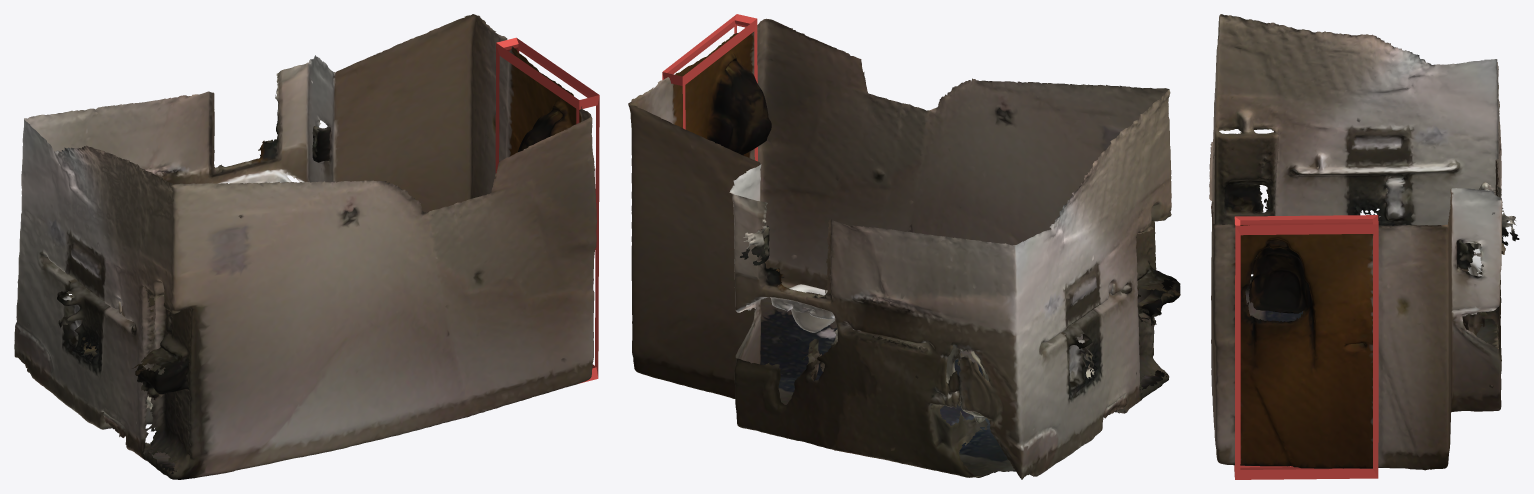
The model's file is reasoning3.glb.
3 renders of one model, left to right at view 1: azimuth 30°, elevation 25°; view 2: azimuth 150°, elevation 25°; view 3: azimuth 270°, elevation 25°, orthographic. The views are drawn at different scales.
Parts seen in each view (by area): view 1: scene0146_00_vh_clean_2, Cube; view 2: scene0146_00_vh_clean_2, Cube; view 3: scene0146_00_vh_clean_2, Cube.
Boxes of the visible parts, box(x1,y1,x2,y2) form: scene0146_00_vh_clean_2: box(14, 14, 596, 479); Cube: box(495, 37, 599, 383); scene0146_00_vh_clean_2: box(628, 18, 1180, 479); Cube: box(662, 14, 757, 161); scene0146_00_vh_clean_2: box(1209, 14, 1519, 470); Cube: box(1234, 215, 1378, 479).
Size of the model in its own units: 3.13 by 2.02 by 2.04.
